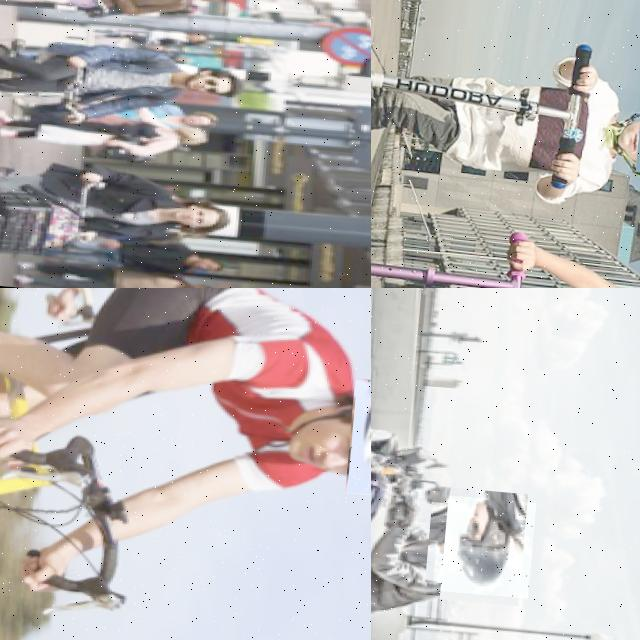helmet: (431, 494, 535, 598), (345, 379, 371, 501)
